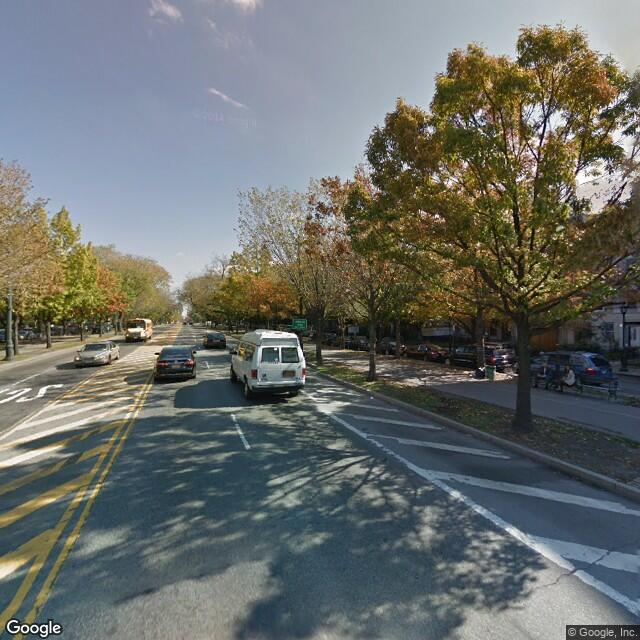litter: (368, 395, 376, 401)
